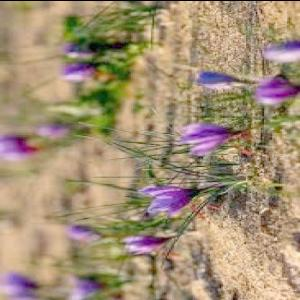Saffron: (178, 120, 236, 154), (141, 182, 201, 212), (254, 78, 296, 104), (119, 230, 164, 251), (197, 71, 236, 89)
